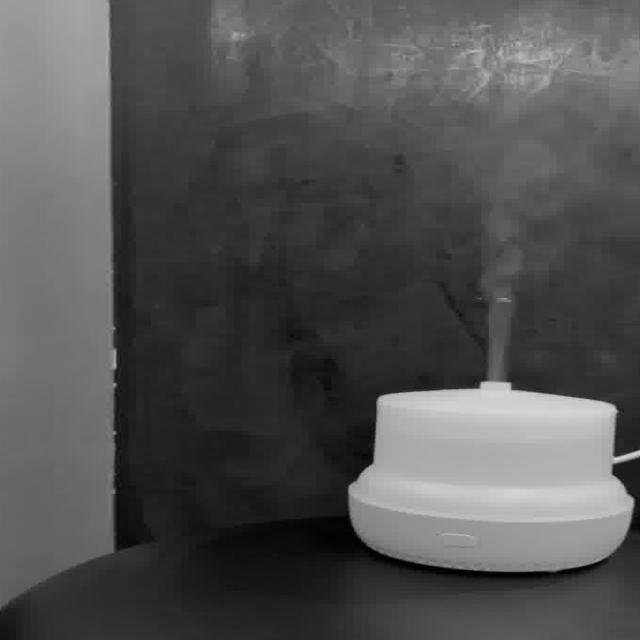fire: (458, 98, 631, 380)
